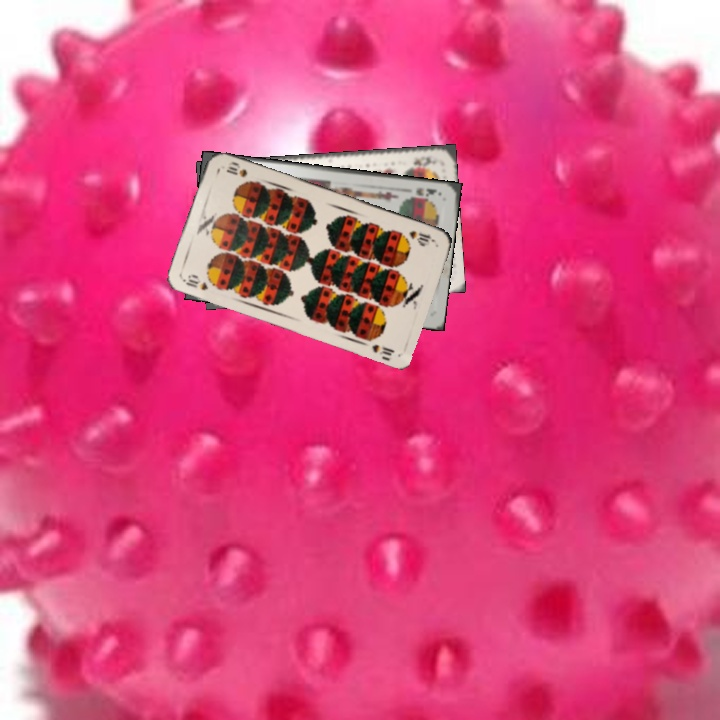S10: (179, 270, 210, 293), (405, 226, 437, 247)
SK: (410, 152, 437, 169), (412, 183, 439, 199)
